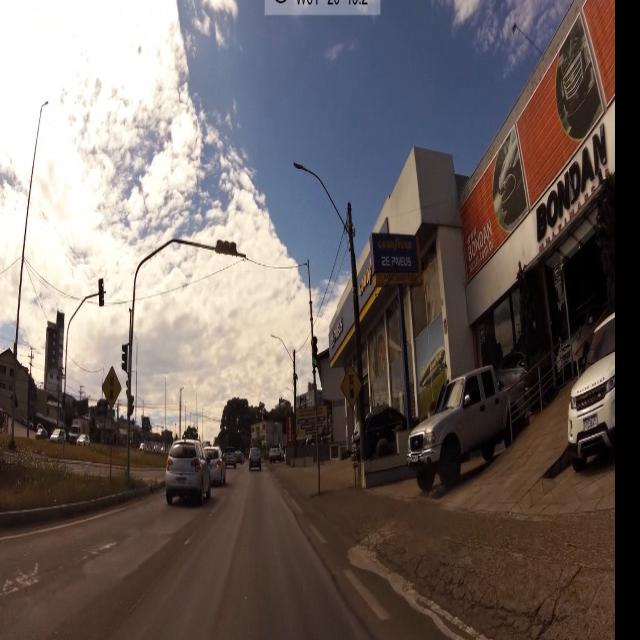A-14: (339, 363, 363, 408), (102, 365, 120, 415)
